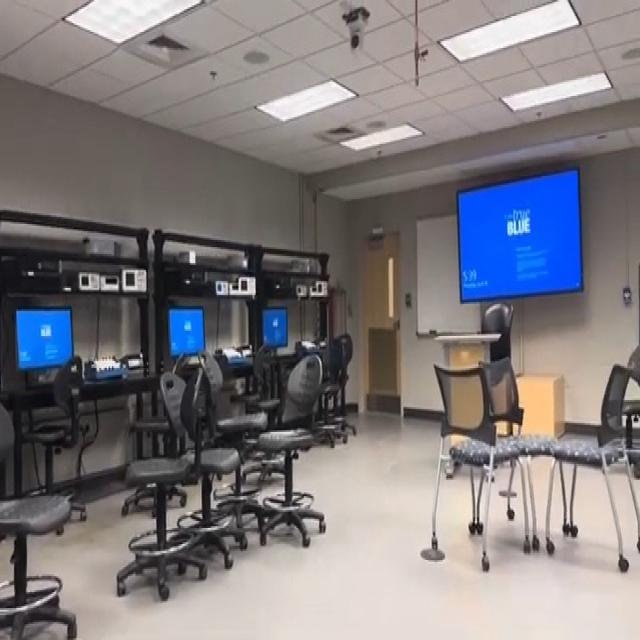drone: (328, 267, 350, 309)
